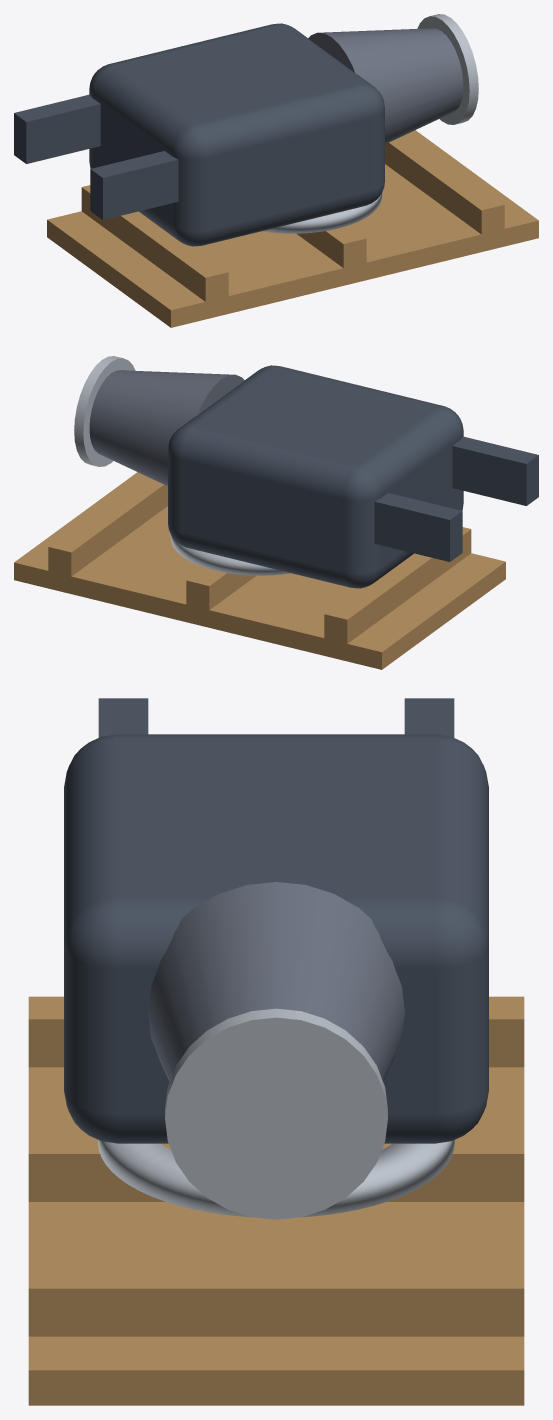
3 views of the same model, one above another, from view 1: azimuth 30°, elevation 25°; view 2: azimuth 150°, elevation 25°; view 3: azimuth 270°, elevation 25° (orthographic). The views are drawn at different scales.
Size of the model in its own units: 5.46 by 2.38 by 2.8.
